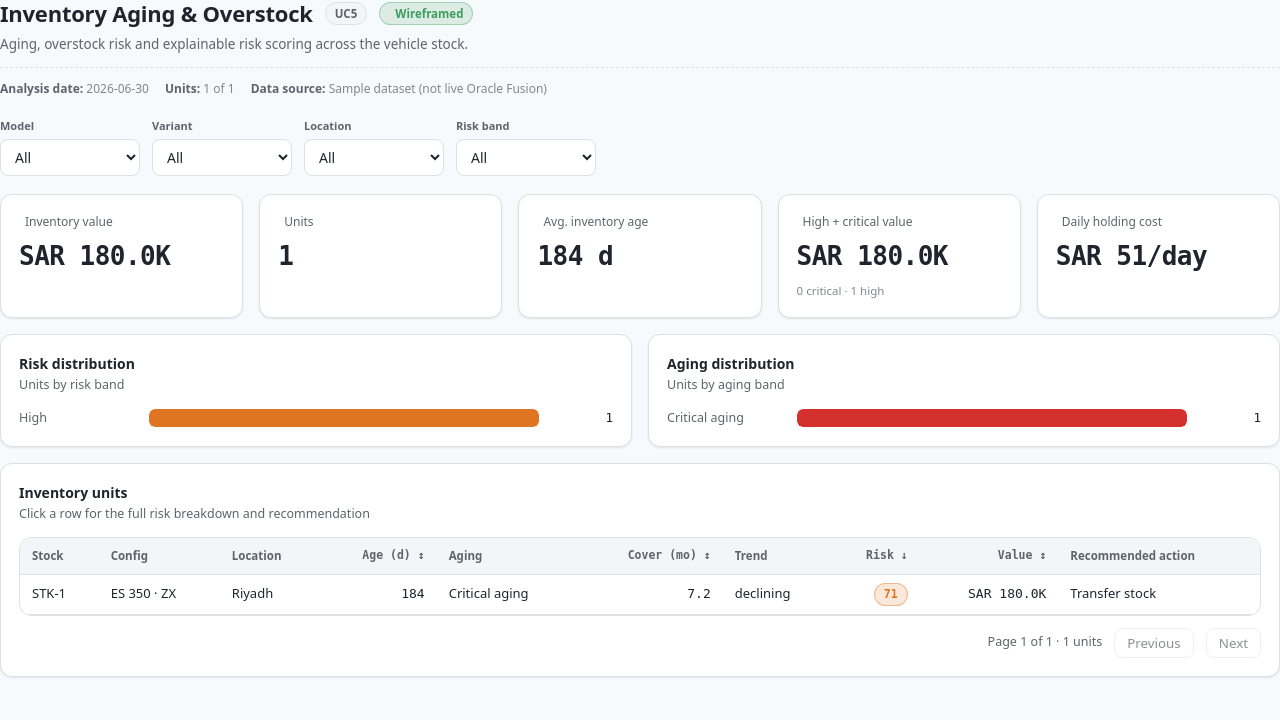
Test: V3-UC0x-002 — the drawer is wired into every intelligence screen › UC5 — the unit detail drawer explains the unit, stacked over itself
Click the row "STK-1": {"x": 640, "y": 594} [20, 574, 1260, 614]
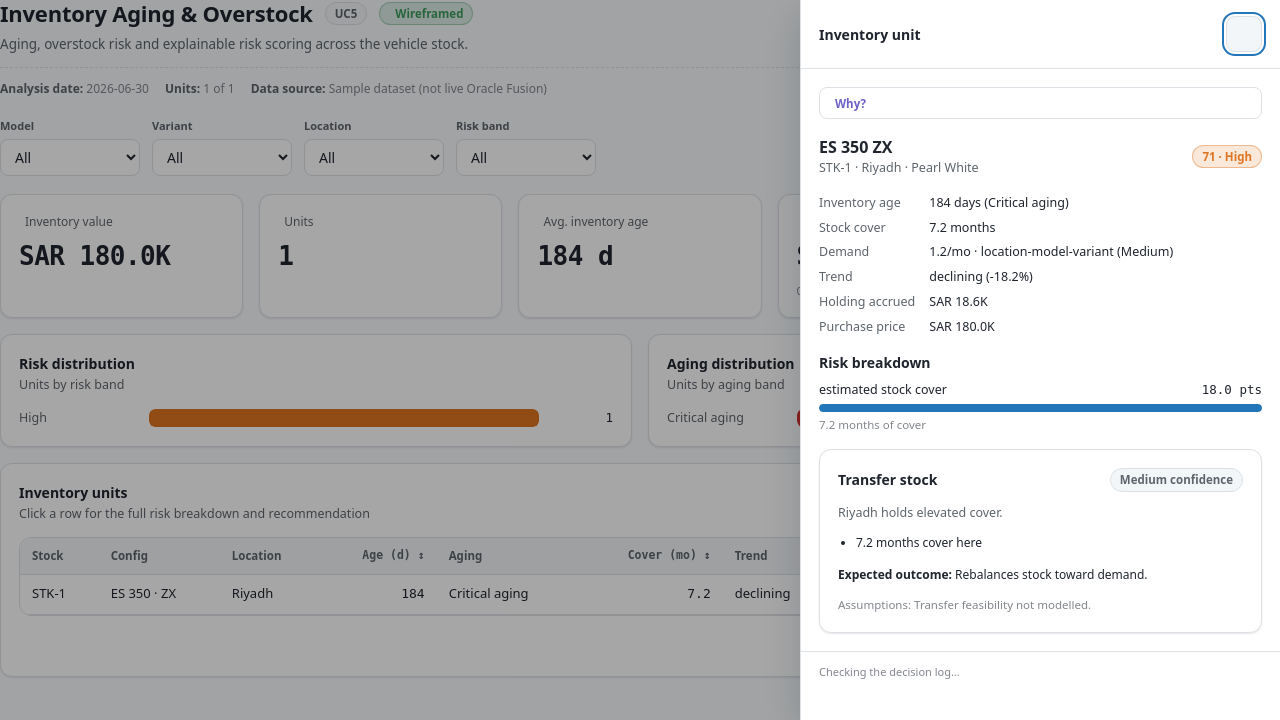
Click the button with aria-label "why this recommendation? es 350 zx · stk-1": {"x": 850, "y": 103} [819, 87, 1262, 119]
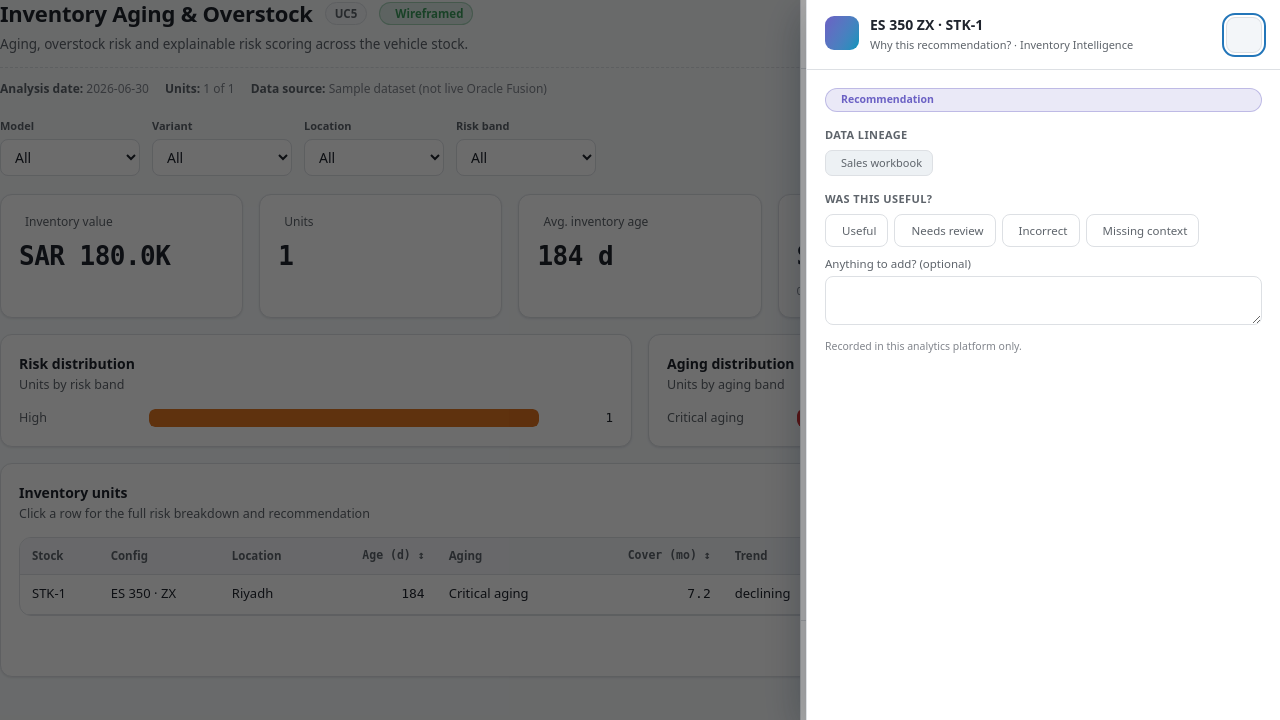
Expected: the cell "STK-1" is shown, [20, 574, 99, 614]
Expected: the text "ES 350 ZX · STK-1" is shown, [870, 15, 983, 34]
Expected: the number of dialogs is 2, [800, 0, 1279, 719]; [806, 0, 1279, 719]
